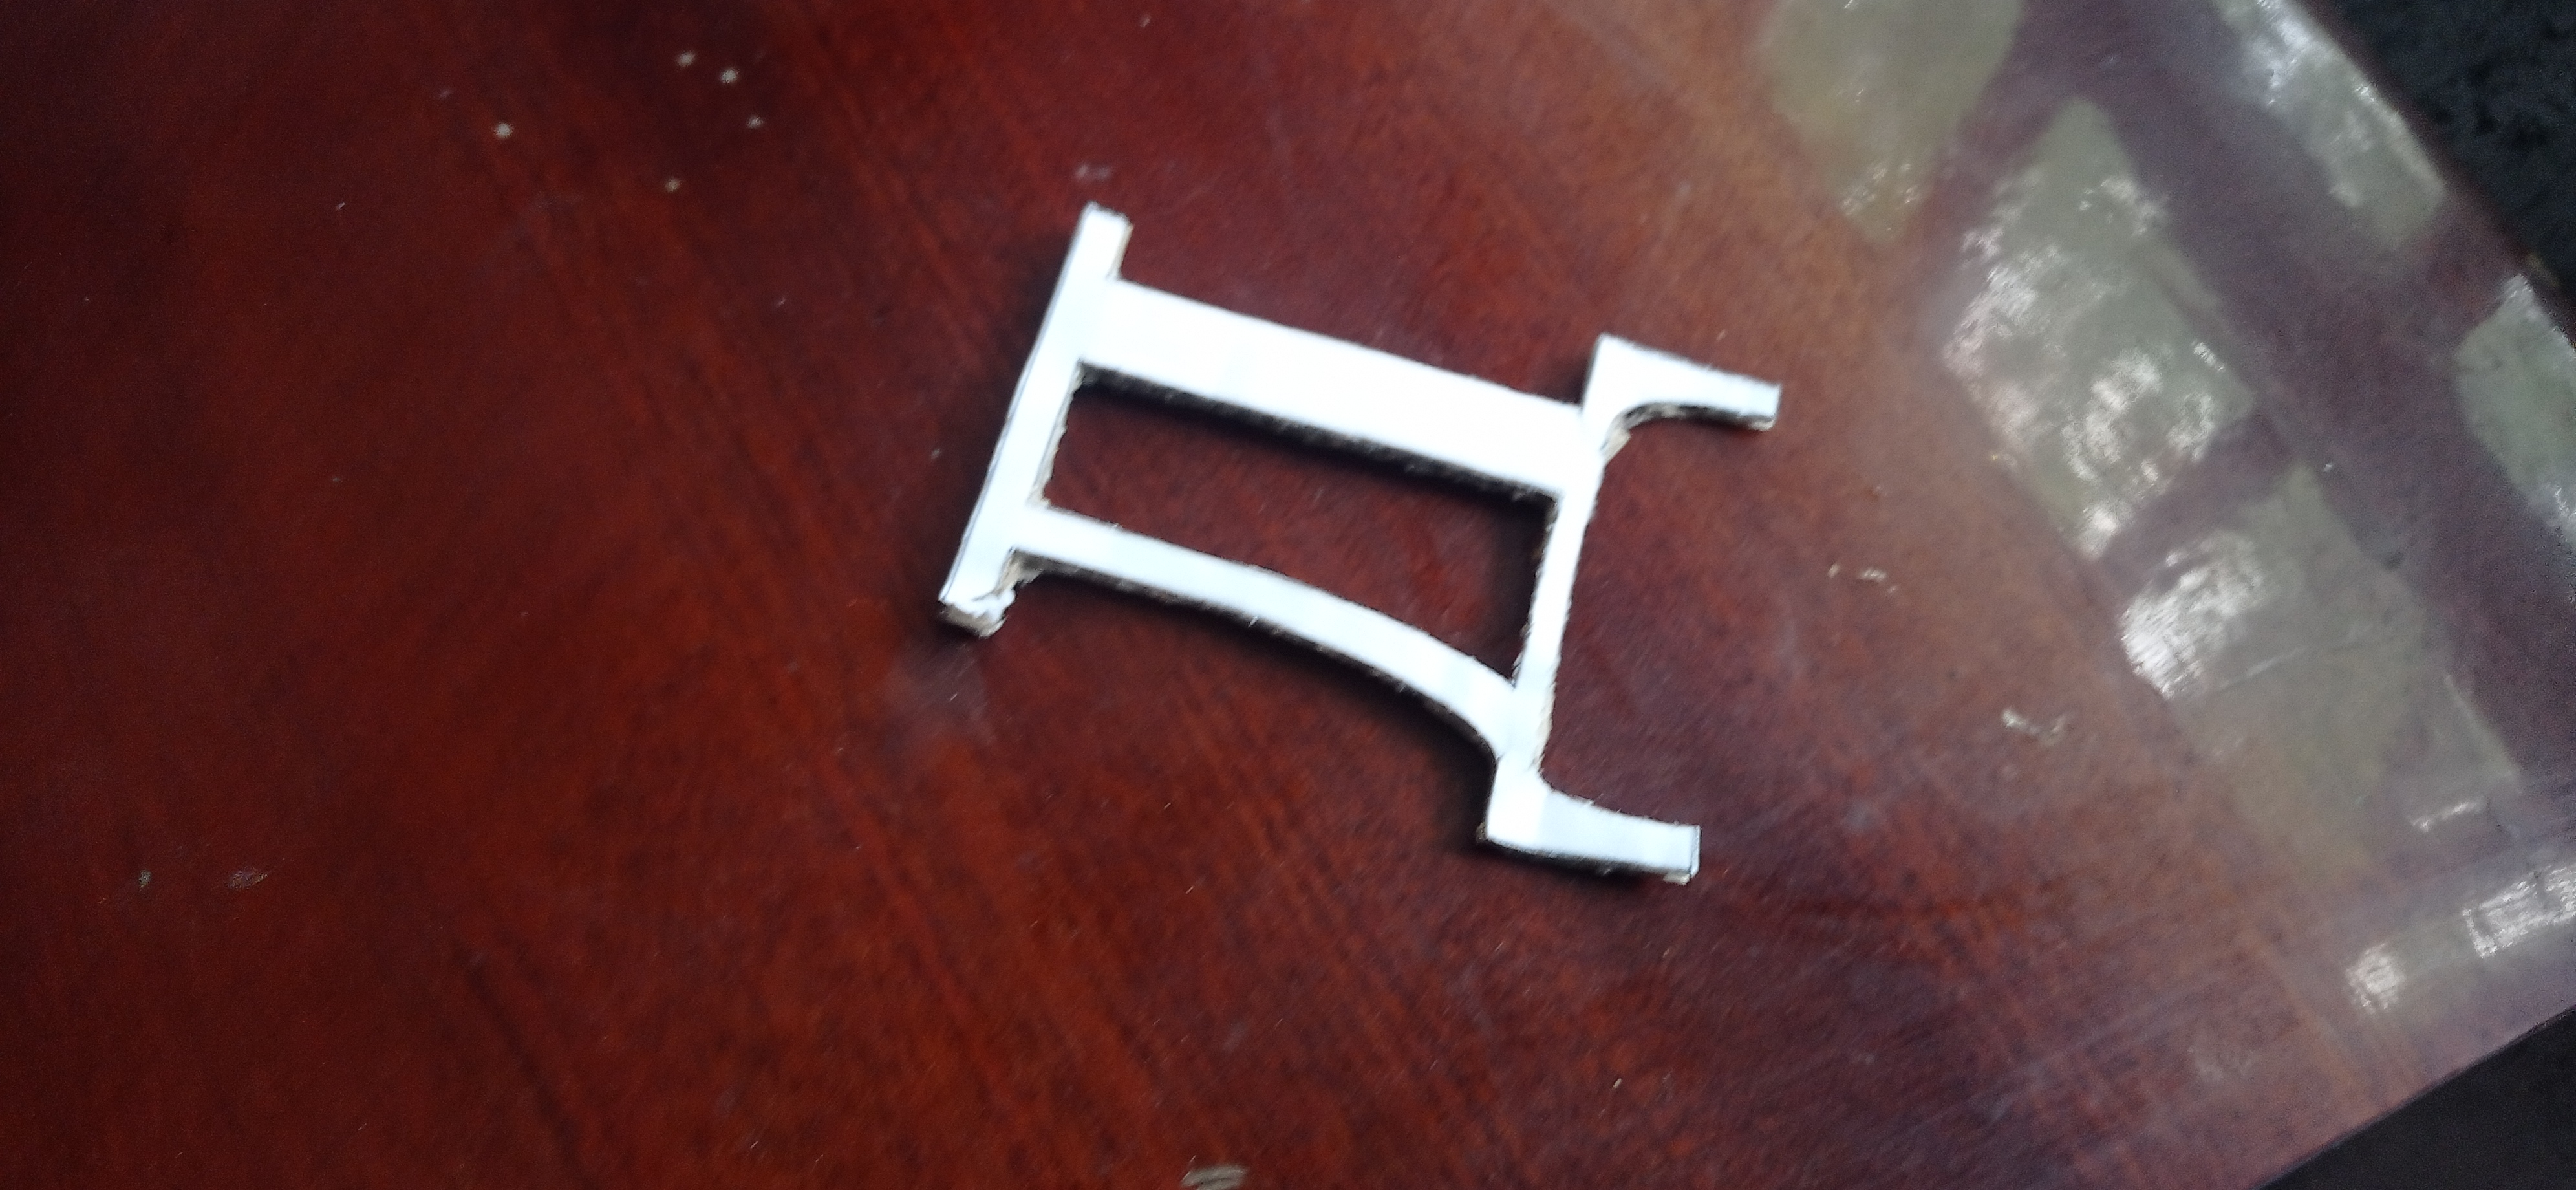d: (930, 194, 1781, 912)
